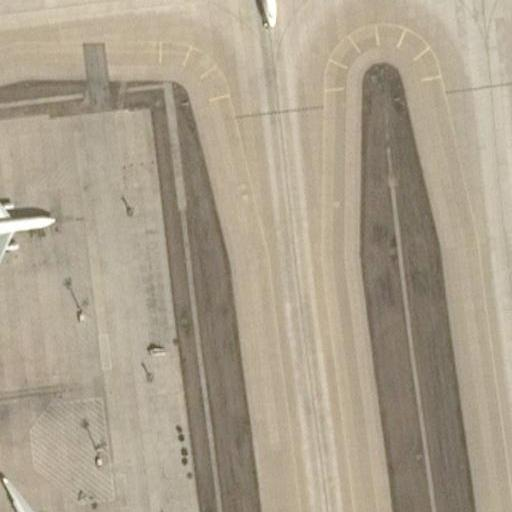Aircraft: (0, 149, 65, 294), (165, 0, 329, 34), (0, 466, 95, 512)
